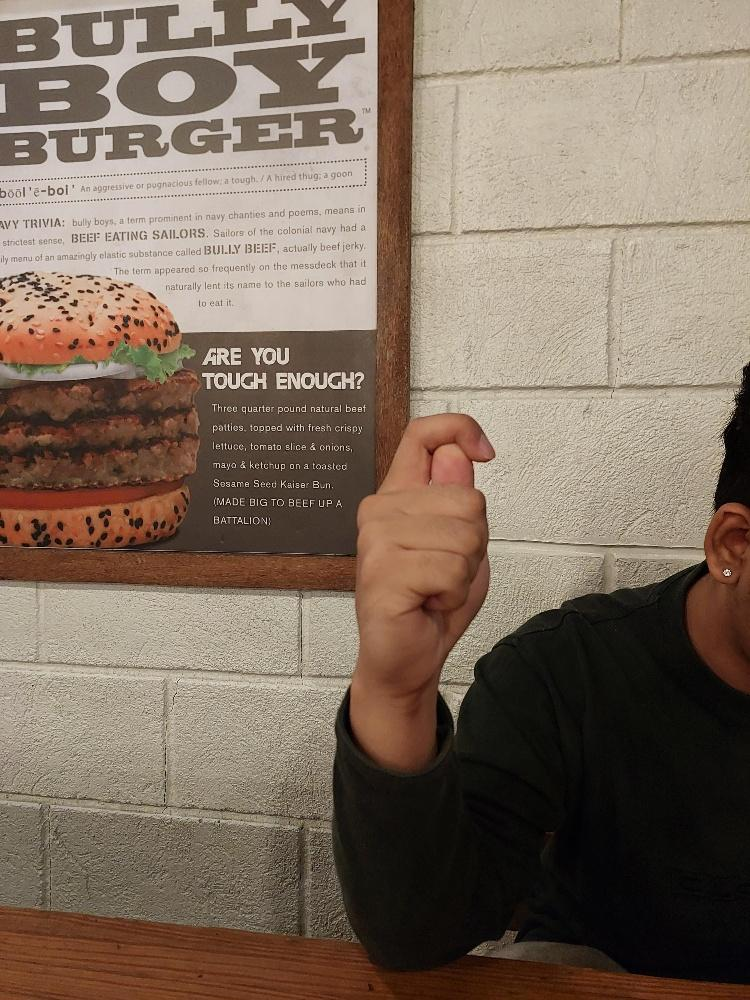t: (353, 411, 498, 696)
